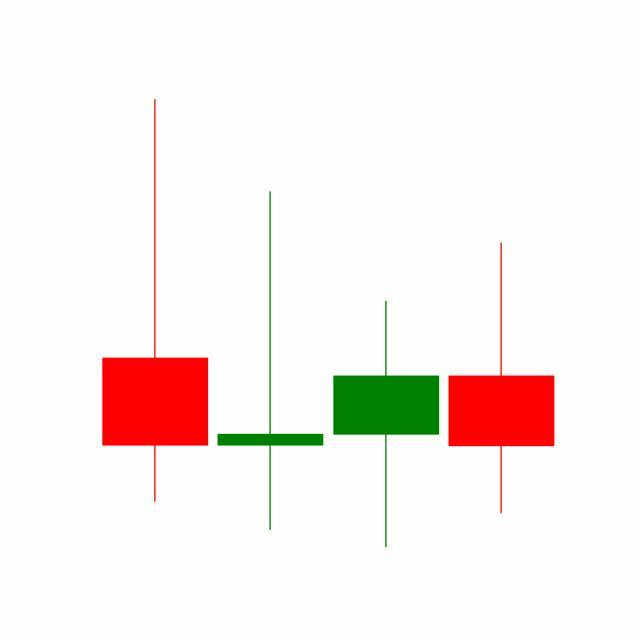Spinning Top: (329, 298, 445, 551)
